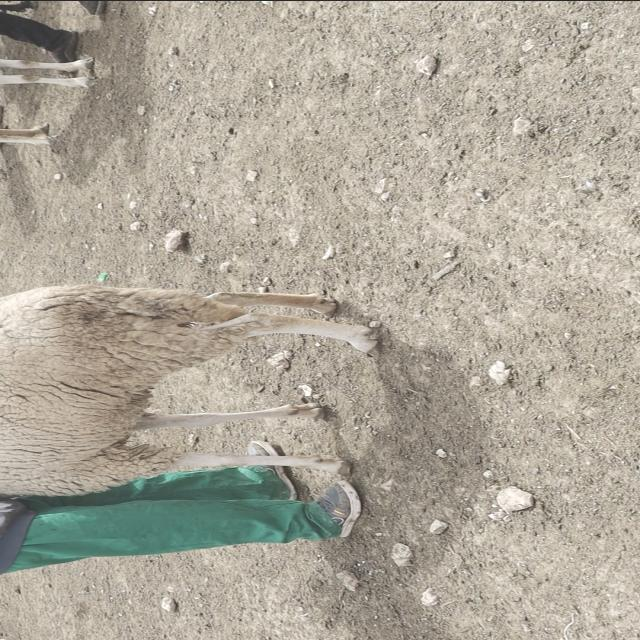Score_1: (0, 284, 379, 495)
